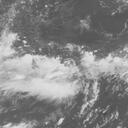cyclone: (27, 53, 81, 101)
